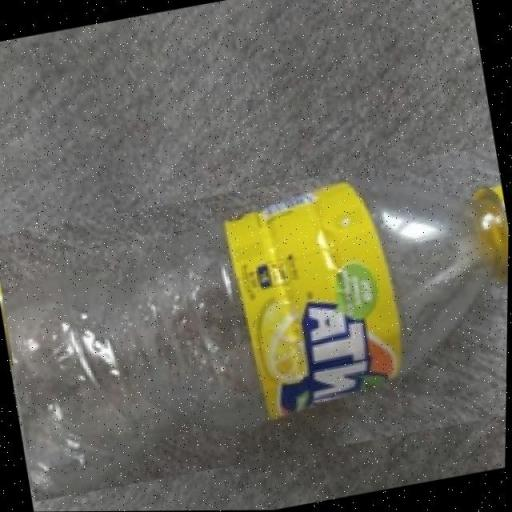plastic: (0, 144, 510, 501)
